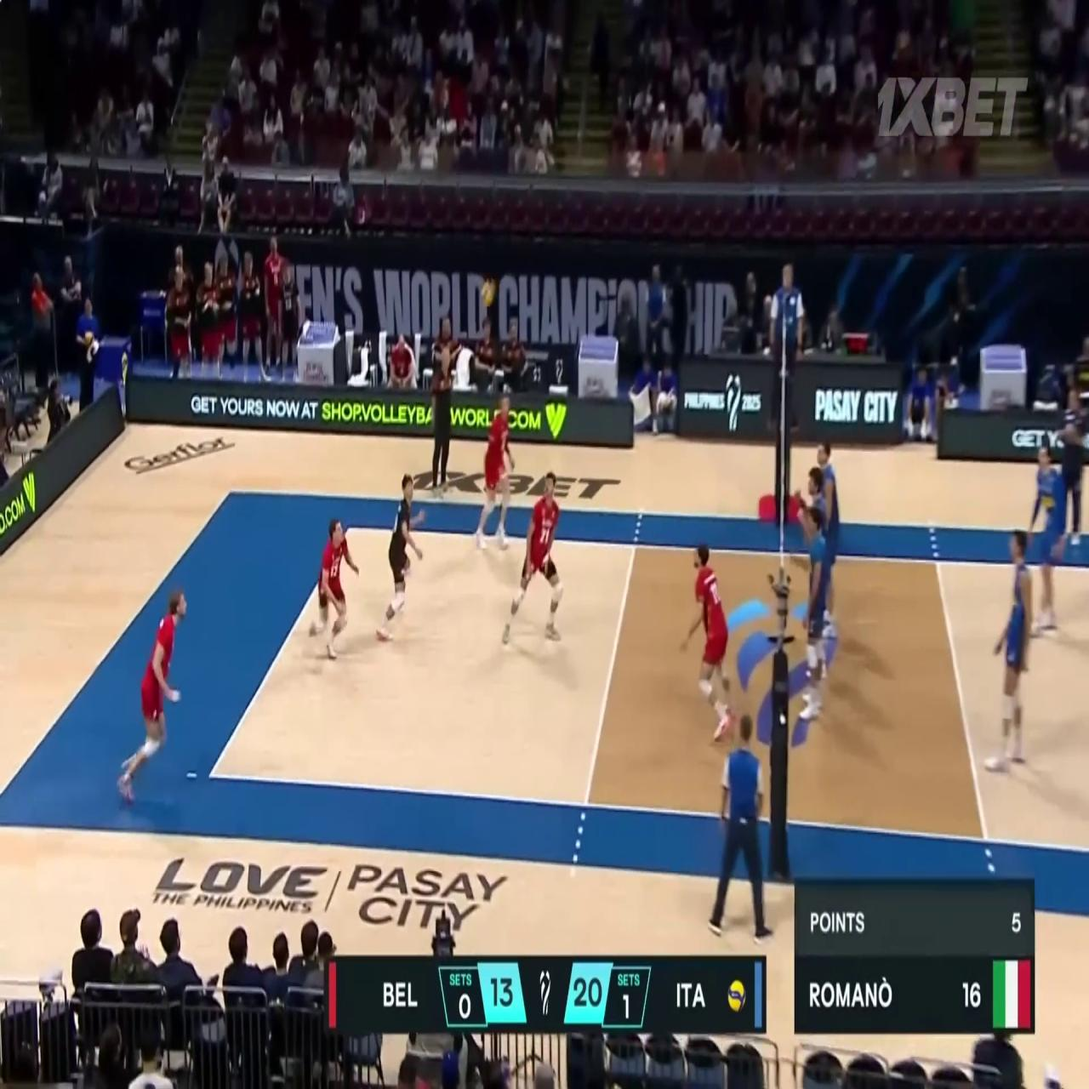ball: (481, 279, 495, 305)
